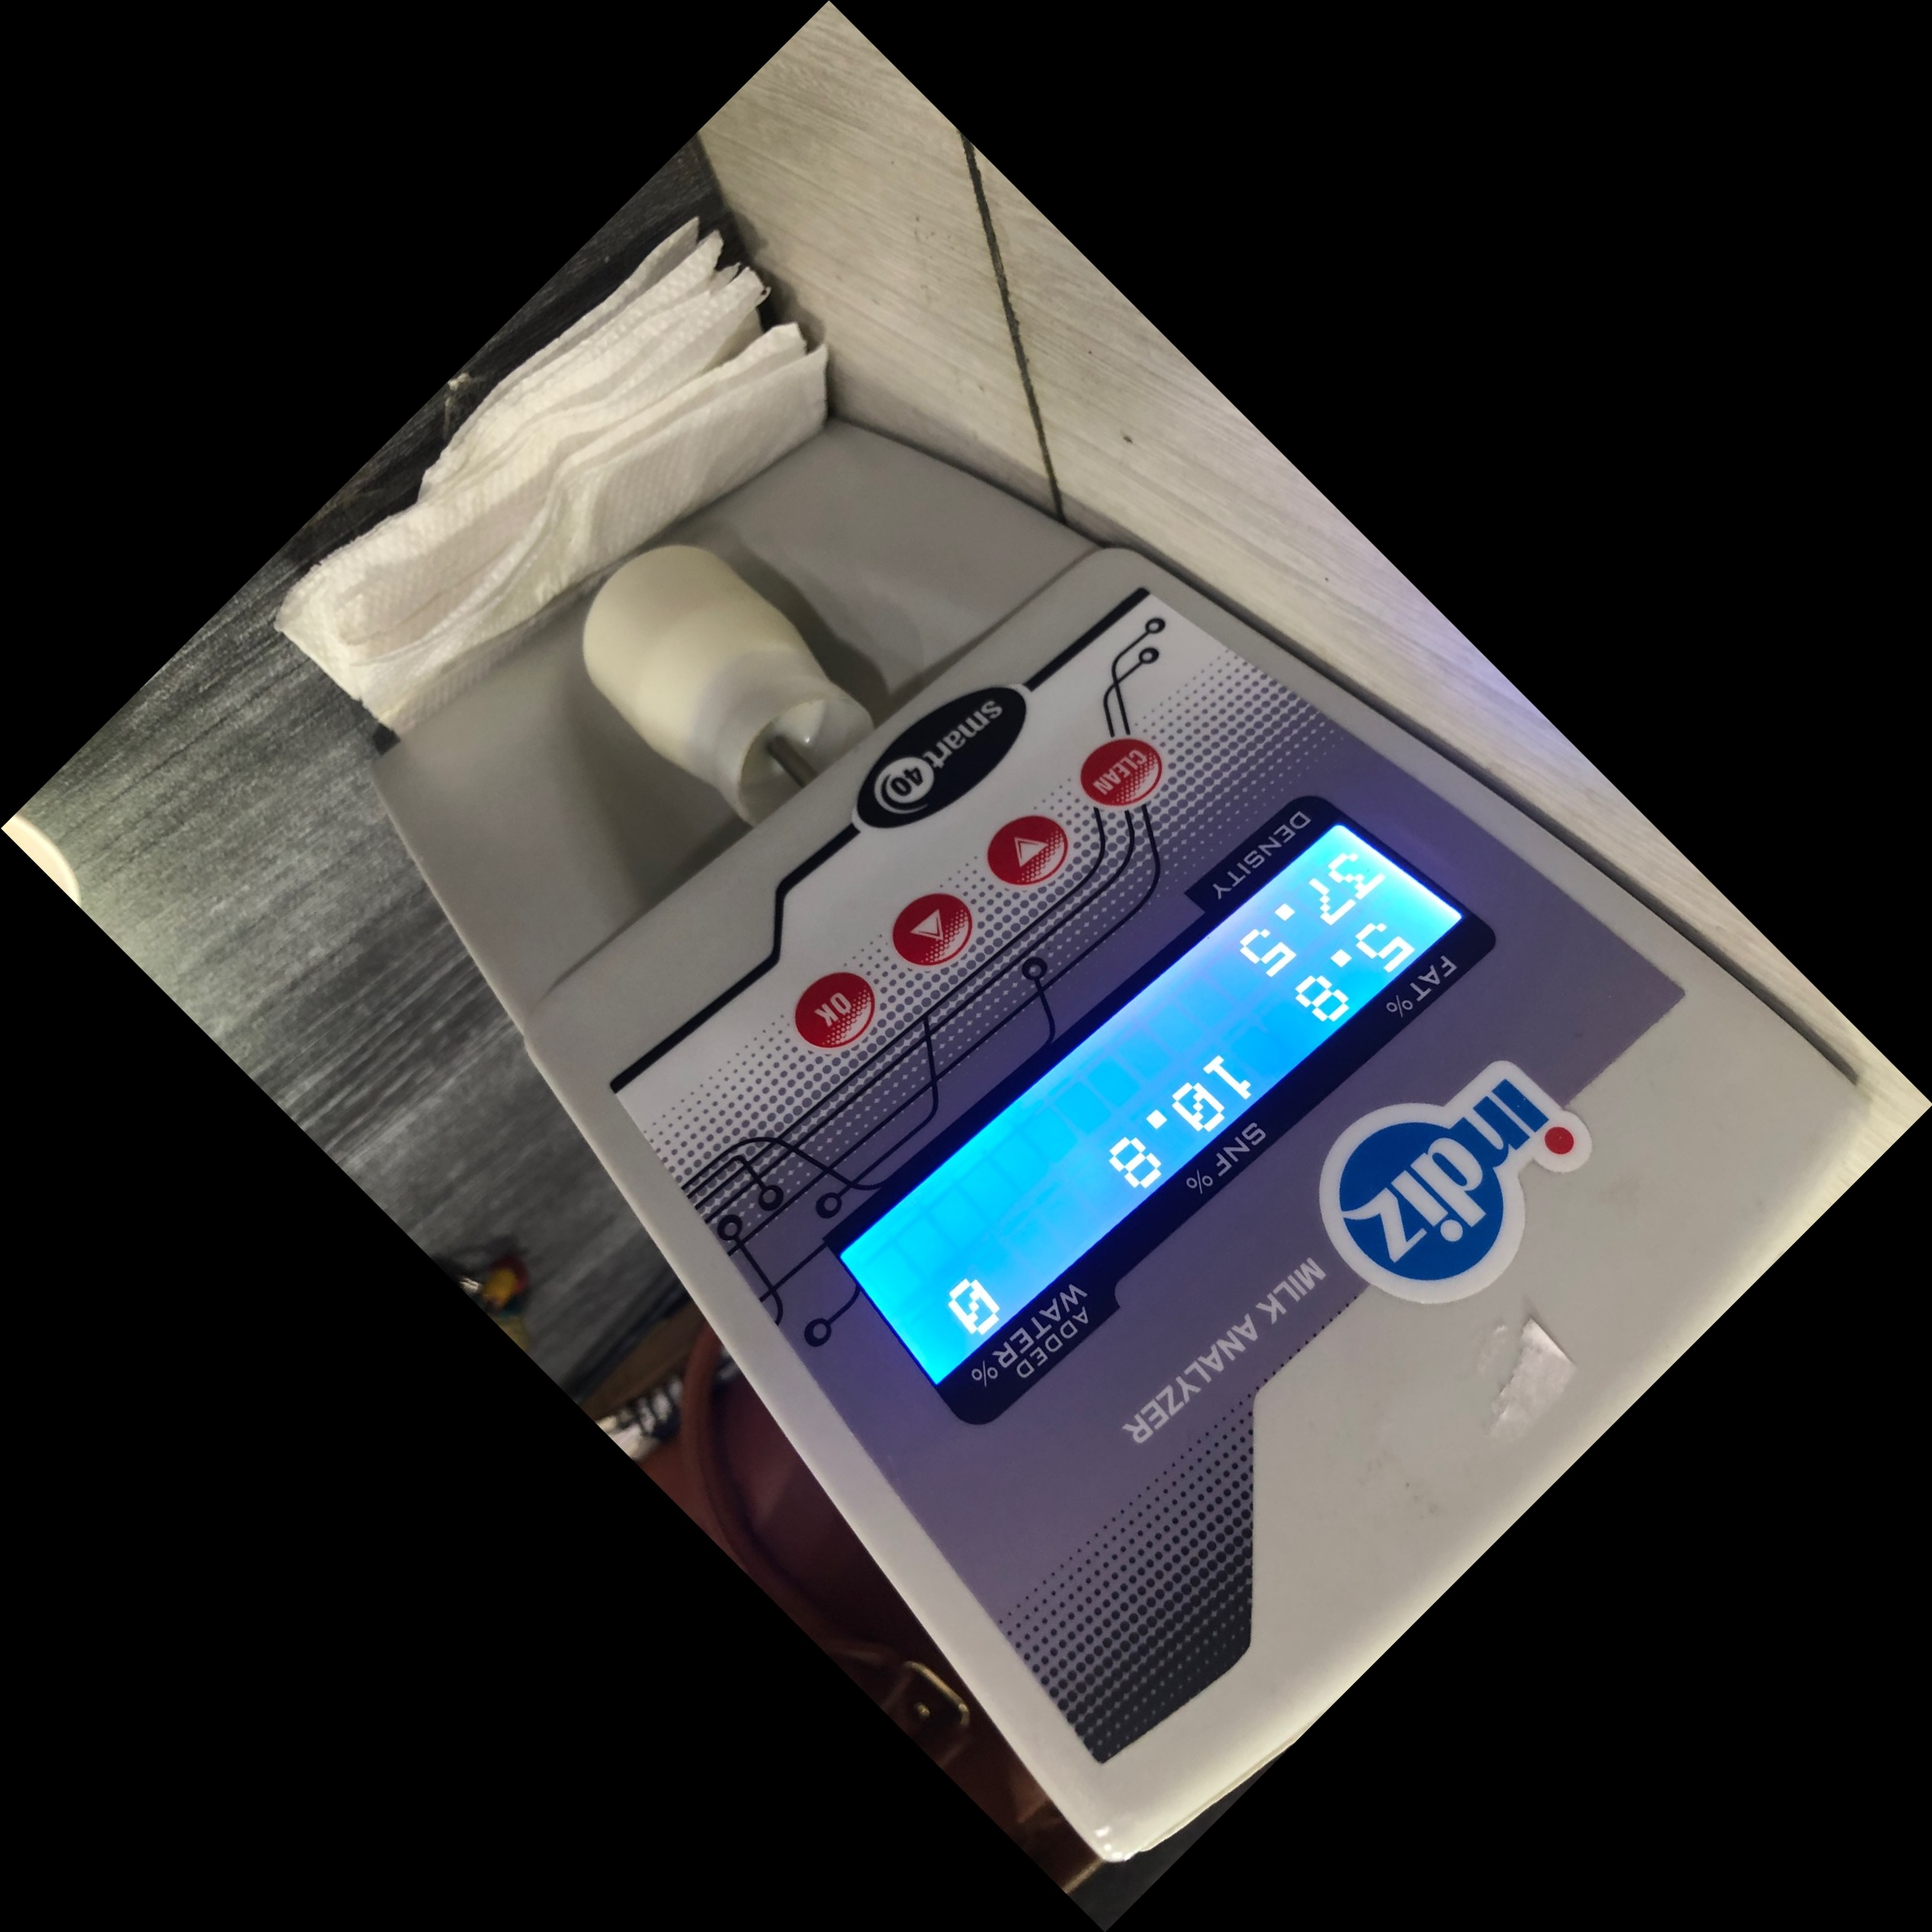lcd: (796, 778, 1516, 1430)
